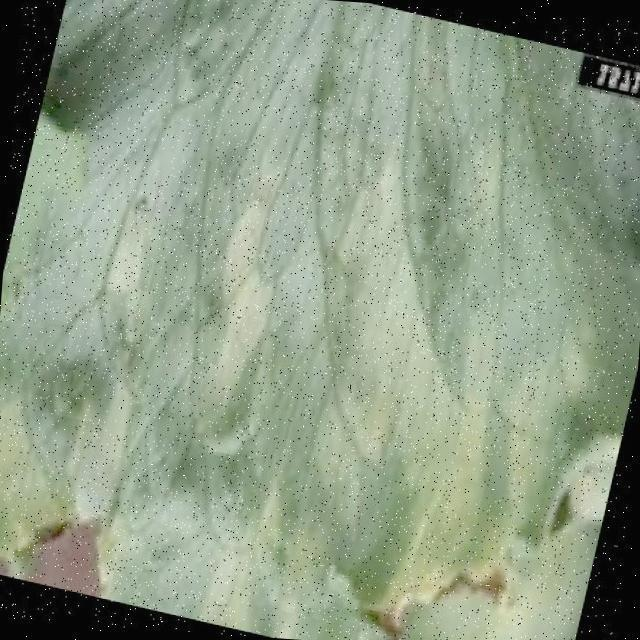Downy_mildew_on_lettuce: (26, 0, 561, 600)
